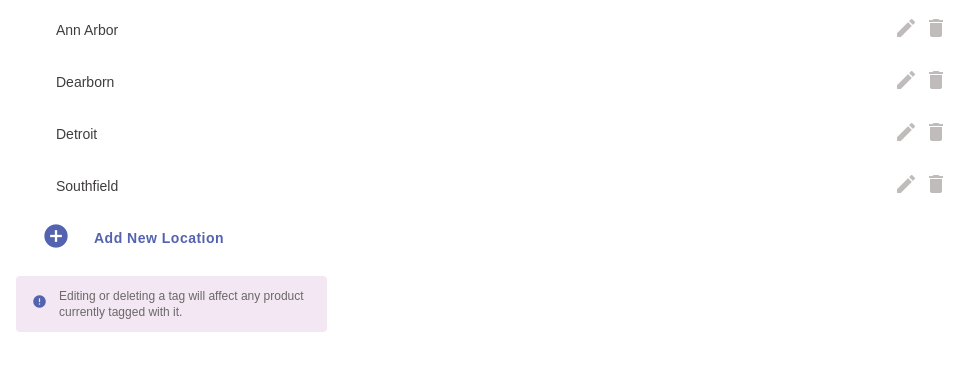
Test: My Tags Form › Editing a tag › Editing a location tag › should display error message when location with existing name is edited
Click the 1st button with test id "editIcon__location": [906, 30] box x1=894 y1=16 x2=918 y2=44
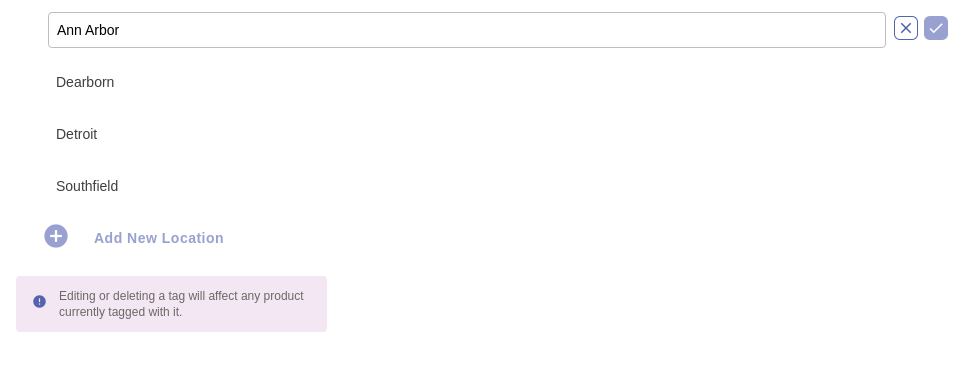
Result: the button with test id "saveTagButton" is shown at x1=924 y1=16 x2=948 y2=44
Replace the text in the field with test id "tagNameInput" with "detroit": [467, 30] box x1=48 y1=12 x2=886 y2=48
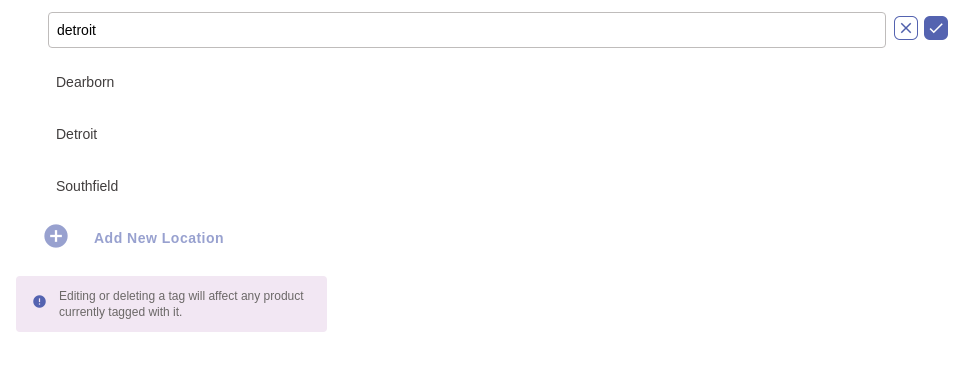
Click the button with test id "saveTagButton": [936, 30] box x1=924 y1=16 x2=948 y2=44
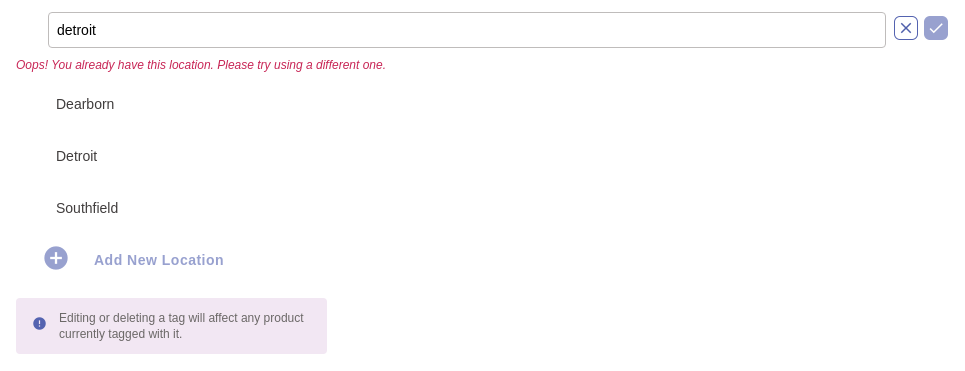
Result: the text "Oops! You already have this location. Please try using a different one." is shown at x1=16 y1=58 x2=386 y2=72
